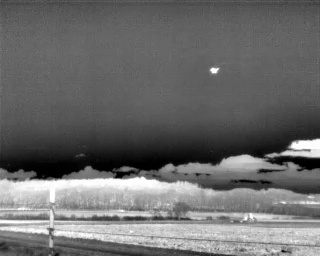DRONE: (207, 63, 222, 78)
